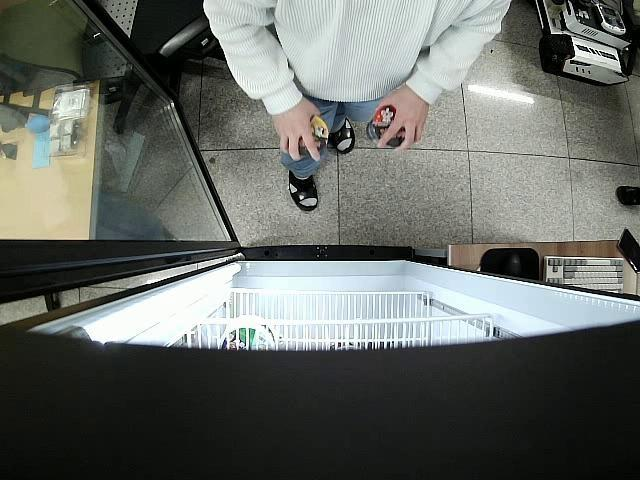08_buldak_S: (366, 106, 406, 149), (298, 116, 329, 158)
